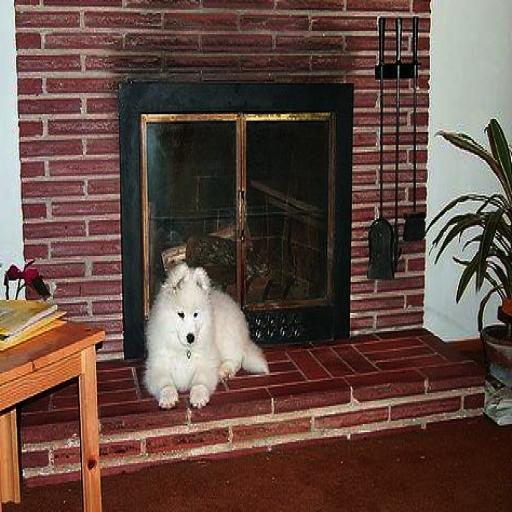dog_face: (165, 265, 210, 350)
